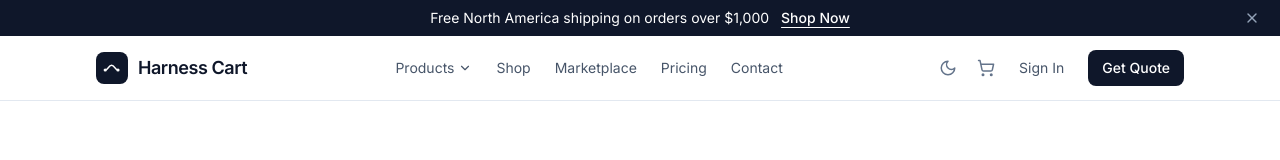
Navigation › Promotional Banner › should close banner when X button is clicked
Click the button named "close banner": {"x": 1252, "y": 18} [1240,6,1264,30]
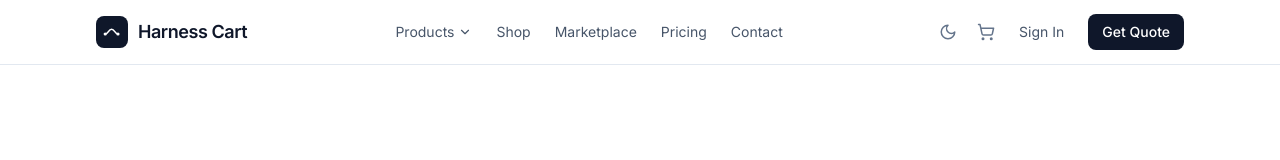
Expected: the text "Free North America shipping on orders over $1,000" is gone
